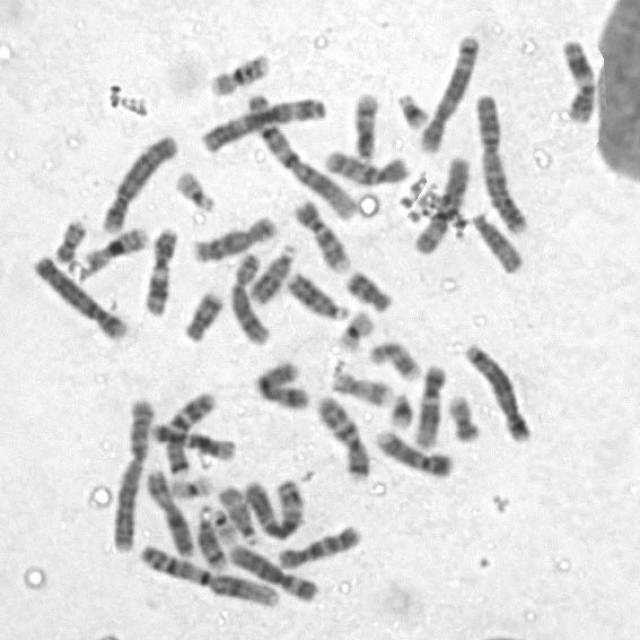A1: (242, 86, 360, 222), (134, 537, 282, 610)
A2: (471, 88, 532, 235), (106, 391, 156, 554)
A3: (195, 92, 328, 155), (238, 470, 308, 540)
B4: (27, 248, 131, 342), (96, 128, 179, 235)
B5: (415, 27, 482, 154), (459, 337, 534, 443)
C10: (272, 519, 365, 571), (318, 144, 411, 188)
C11: (556, 34, 600, 124), (138, 222, 180, 316)
C12: (145, 418, 238, 462), (409, 358, 448, 450)
C6: (407, 150, 473, 256), (224, 537, 320, 604)
C7: (310, 388, 372, 482), (161, 386, 219, 476)
C8: (189, 209, 281, 264), (225, 247, 273, 347)
C9: (288, 193, 353, 274), (369, 424, 456, 479)
D13: (281, 266, 351, 321), (245, 238, 299, 306)
D14: (192, 500, 230, 573), (348, 87, 382, 162)
D15: (467, 206, 527, 275), (213, 480, 262, 548)
E16: (79, 220, 152, 274), (204, 46, 272, 98)
E17: (326, 365, 395, 408), (364, 336, 424, 382)
E18: (178, 285, 226, 344), (340, 265, 395, 313)
F19: (332, 305, 377, 353), (165, 469, 217, 501)
F20: (442, 389, 482, 443), (49, 212, 89, 264)
G21: (393, 86, 432, 131), (384, 386, 416, 430)
G22: (170, 165, 219, 213), (204, 501, 240, 545)
X: (140, 464, 195, 558), (250, 356, 312, 412)
